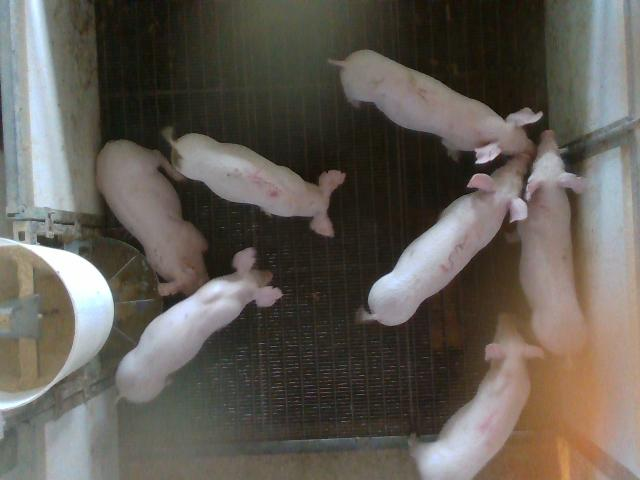pig-3: (358, 155, 530, 326)
pig-4: (409, 314, 544, 479)
pig-5: (162, 129, 345, 236)
